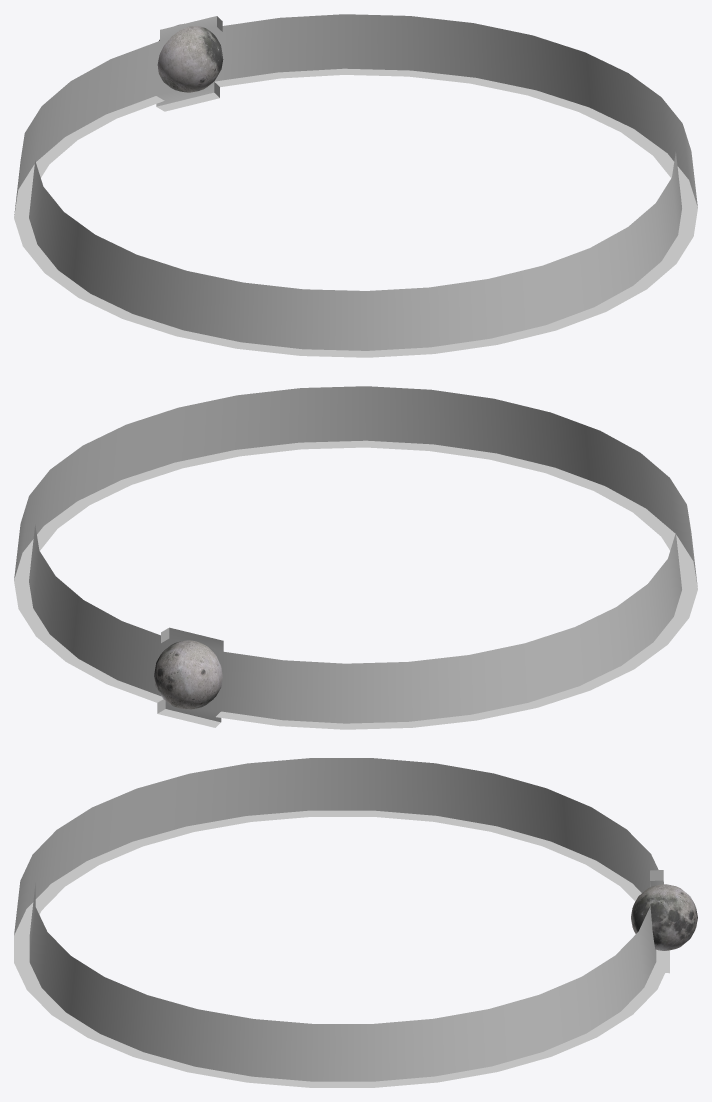
The model's file is moon_ring.glb.
3 views of the same model, one above another, from view 1: azimuth 30°, elevation 25°; view 2: azimuth 150°, elevation 25°; view 3: azimuth 270°, elevation 25° (orthographic). The views are drawn at different scales.
Visible parts, largest first — view 1: Sphere.002; view 2: Sphere.002; view 3: Sphere.002.
Boxes of the visible parts, x1,y1,x2,y2 form: Sphere.002: (14,14,697,357); Sphere.002: (14,386,697,729); Sphere.002: (14,758,697,1087).
Size of the model in its own units: 6.01 by 0.7705 by 6.26.
1 material, 1 textured.
